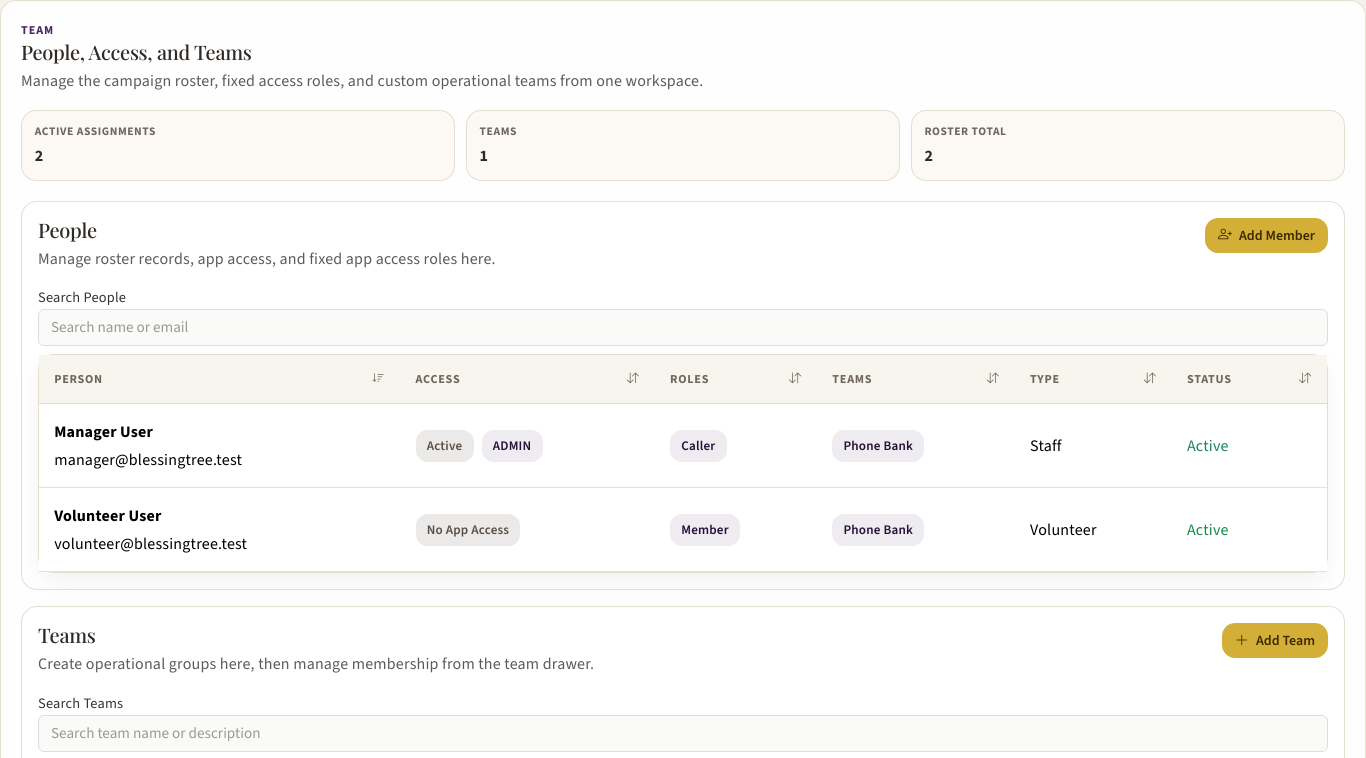
Test case: CampaignStudioTeamSection › filters the roster table by search term
The image size is (1366, 758).
Type "volunteer" into the field with placeholder "Search name or email".
click(683, 328); type("volunteer")  # box top-left (38, 309), bottom-right (1328, 346)
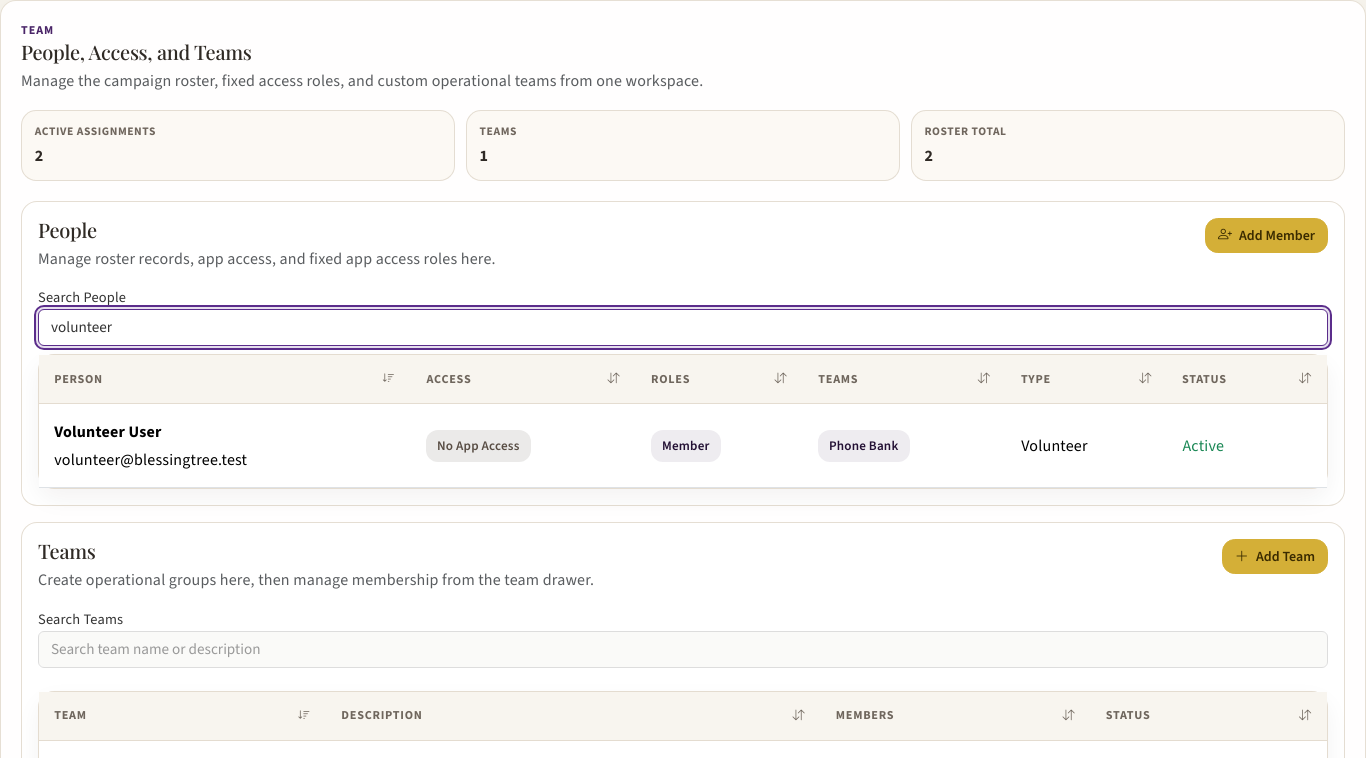
Expected: the text "Volunteer User" is shown, top-left (54, 421), bottom-right (162, 442)
Result: the button "Manager User" is gone
